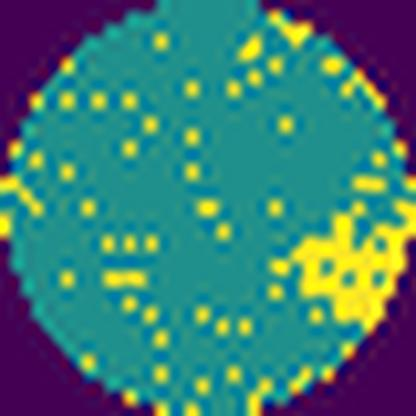Edge-Loc: (288, 205, 416, 339)
